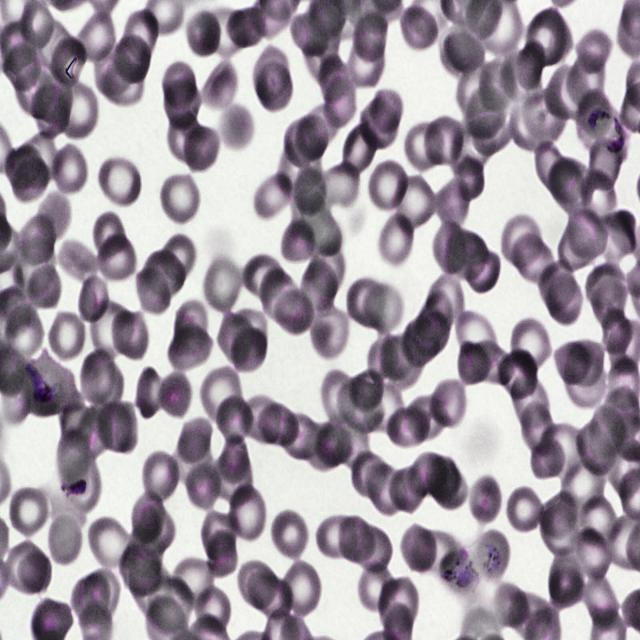red blood cell: (584, 261, 632, 334), (522, 5, 573, 72), (576, 406, 622, 478), (370, 329, 424, 390), (538, 486, 584, 556), (507, 96, 563, 151), (213, 431, 254, 506), (389, 174, 437, 237), (166, 556, 218, 613), (452, 312, 502, 371), (306, 295, 351, 360), (277, 558, 324, 620), (55, 78, 102, 140), (278, 139, 325, 201), (199, 365, 243, 430), (122, 5, 160, 80), (72, 4, 116, 68), (240, 252, 291, 307), (146, 578, 196, 634), (508, 316, 553, 378), (89, 299, 134, 361), (562, 455, 608, 515), (259, 268, 304, 329), (544, 65, 592, 122), (376, 574, 420, 636), (338, 378, 387, 433), (202, 250, 244, 314), (87, 516, 134, 573), (494, 347, 541, 404), (101, 50, 148, 107), (13, 234, 56, 296), (401, 313, 451, 366), (548, 546, 588, 612), (120, 539, 163, 600), (93, 401, 138, 459), (171, 430, 216, 488), (44, 508, 86, 570), (442, 16, 483, 79), (366, 158, 411, 215), (298, 204, 346, 257), (14, 134, 62, 187), (226, 482, 267, 544), (97, 154, 142, 210), (139, 448, 181, 508), (30, 82, 75, 138), (252, 169, 296, 226), (201, 7, 252, 56), (498, 51, 543, 106), (223, 1, 272, 51), (425, 377, 469, 432), (350, 7, 386, 74), (160, 170, 202, 227), (108, 305, 150, 362), (565, 357, 610, 410), (296, 104, 340, 158), (15, 66, 59, 120), (142, 245, 186, 298), (416, 290, 453, 353), (500, 212, 543, 266), (403, 118, 446, 172), (464, 86, 507, 140), (8, 485, 50, 540), (196, 59, 238, 114), (213, 396, 260, 445), (321, 369, 360, 428), (299, 260, 338, 319), (328, 420, 374, 470), (584, 572, 621, 634), (377, 210, 416, 268), (522, 90, 568, 139), (512, 235, 558, 284), (410, 528, 459, 574), (55, 236, 100, 286), (270, 507, 310, 563), (358, 560, 398, 616), (4, 305, 46, 358), (427, 273, 466, 330), (356, 100, 397, 154), (82, 567, 120, 625), (566, 208, 610, 258), (20, 214, 60, 269), (541, 424, 585, 474), (446, 230, 490, 280), (363, 383, 406, 434), (456, 63, 495, 119), (555, 221, 597, 273), (48, 143, 88, 197), (184, 5, 224, 59), (304, 421, 344, 475), (340, 121, 379, 176), (347, 34, 386, 89), (472, 106, 514, 157), (547, 160, 588, 212), (168, 325, 213, 372), (404, 395, 451, 440), (237, 393, 280, 442), (435, 172, 474, 226), (510, 372, 549, 426), (367, 464, 409, 514), (360, 282, 402, 332), (398, 1, 439, 52), (506, 485, 546, 537), (462, 244, 502, 296), (217, 307, 254, 363), (94, 45, 133, 98), (478, 60, 520, 109), (400, 524, 438, 578), (303, 30, 341, 84), (47, 308, 88, 358), (280, 218, 321, 268), (280, 412, 320, 463), (574, 530, 614, 581), (577, 497, 617, 548), (547, 273, 584, 328), (256, 62, 294, 115), (568, 51, 606, 104), (4, 544, 44, 594), (162, 80, 202, 130), (217, 102, 254, 156), (232, 323, 269, 377), (599, 208, 636, 262), (346, 277, 385, 328), (573, 28, 612, 79), (354, 523, 393, 574), (173, 301, 209, 356), (249, 574, 292, 620), (431, 458, 469, 510), (236, 561, 278, 608), (350, 449, 391, 497), (465, 472, 502, 525), (154, 372, 193, 422), (186, 458, 220, 515), (254, 46, 289, 101), (424, 117, 464, 165), (136, 506, 176, 554), (112, 33, 151, 82), (79, 348, 115, 401), (72, 574, 110, 624), (284, 120, 322, 170), (289, 166, 327, 216), (431, 224, 469, 274), (184, 122, 221, 173), (290, 11, 330, 58), (580, 173, 620, 220), (278, 288, 316, 337), (564, 342, 605, 387), (156, 234, 196, 280), (78, 270, 112, 324), (540, 260, 576, 311), (370, 86, 408, 134), (492, 582, 530, 630), (323, 76, 358, 128), (175, 418, 212, 467), (4, 42, 41, 91), (76, 409, 113, 458), (201, 505, 237, 555), (316, 52, 352, 102), (100, 232, 136, 282), (137, 268, 173, 318), (50, 38, 88, 85), (168, 112, 205, 160), (128, 491, 164, 540), (256, 404, 297, 447), (40, 189, 72, 244), (320, 162, 358, 208), (316, 514, 354, 560), (56, 428, 93, 475), (195, 586, 231, 634), (387, 406, 430, 446), (389, 466, 426, 512), (12, 159, 49, 205), (138, 366, 170, 419), (554, 337, 590, 384), (520, 402, 556, 449), (4, 144, 42, 188), (161, 59, 197, 105), (339, 517, 374, 564), (18, 551, 52, 597), (452, 156, 487, 200), (208, 527, 238, 578), (457, 339, 488, 388), (412, 451, 448, 493), (350, 366, 385, 409), (516, 41, 548, 88), (26, 267, 62, 308), (530, 439, 566, 480), (534, 142, 564, 191), (430, 455, 460, 502), (94, 213, 126, 257), (96, 360, 124, 407)
trophozoite: (576, 90, 630, 166), (20, 355, 71, 419), (53, 450, 103, 511), (438, 544, 479, 595), (475, 528, 509, 582)
